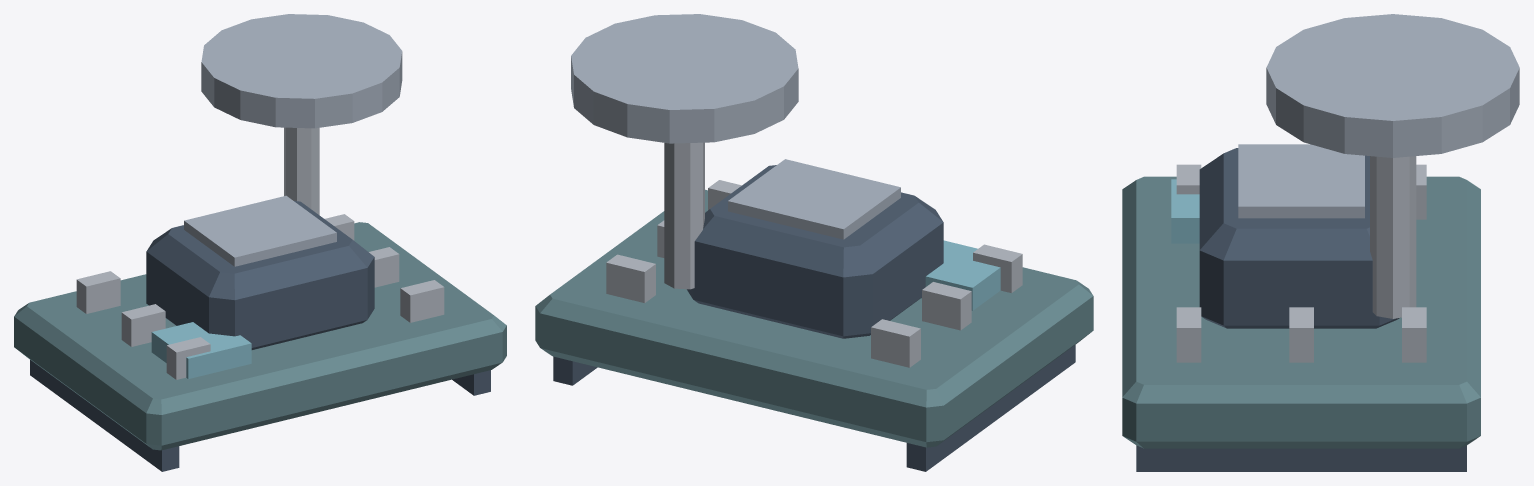
The model's file is chip-nav.glb.
The picture shows the model from 3 angles, left to right: view 1: azimuth 30°, elevation 25°; view 2: azimuth 150°, elevation 25°; view 3: azimuth 270°, elevation 25°; orthographic projection. The views are drawn at different scales.
Visible parts, largest first — view 1: 000_flight_control_board, 012_gps_antenna, 003_processor, 004_processor_stamp, 013_gps_radio, 011_gps_mast, 001_pcb_mounting, 005_connector, 010_connector, 006_connector, 007_connector, 009_connector (+1 smaller); view 2: 000_flight_control_board, 003_processor, 012_gps_antenna, 004_processor_stamp, 011_gps_mast, 001_pcb_mounting, 013_gps_radio, 005_connector, 006_connector, 008_connector, 007_connector, 002_pcb_mounting; view 3: 000_flight_control_board, 012_gps_antenna, 003_processor, 004_processor_stamp, 002_pcb_mounting, 011_gps_mast, 013_gps_radio, 010_connector, 008_connector, 009_connector, 007_connector, 005_connector.
Boxes of the visible parts, box(x1,y1,x2,y2) form: 000_flight_control_board: box(14, 222, 506, 450); 012_gps_antenna: box(201, 14, 402, 128); 003_processor: box(146, 201, 374, 349); 004_processor_stamp: box(184, 195, 336, 266); 013_gps_radio: box(151, 322, 251, 378); 011_gps_mast: box(284, 127, 319, 214); 001_pcb_mounting: box(30, 360, 179, 471); 005_connector: box(76, 271, 120, 313); 010_connector: box(400, 280, 444, 322); 006_connector: box(121, 304, 165, 346); 007_connector: box(166, 337, 210, 379); 009_connector: box(369, 247, 399, 287); 000_flight_control_board: box(535, 189, 1093, 447); 003_processor: box(687, 165, 943, 338); 012_gps_antenna: box(571, 14, 798, 143); 004_processor_stamp: box(728, 159, 900, 239); 011_gps_mast: box(664, 142, 704, 289); 001_pcb_mounting: box(906, 345, 1075, 471); 013_gps_radio: box(921, 240, 1000, 310); 005_connector: box(871, 319, 920, 367); 006_connector: box(922, 282, 971, 330); 008_connector: box(606, 254, 655, 303); 007_connector: box(973, 244, 1022, 292); 002_pcb_mounting: box(553, 356, 597, 385); 000_flight_control_board: box(1122, 176, 1480, 448); 012_gps_antenna: box(1266, 14, 1519, 157); 003_processor: box(1199, 148, 1399, 328); 004_processor_stamp: box(1238, 144, 1364, 218); 002_pcb_mounting: box(1136, 445, 1466, 471); 011_gps_mast: box(1370, 156, 1416, 318); 013_gps_radio: box(1171, 179, 1199, 243); 010_connector: box(1176, 307, 1201, 362); 008_connector: box(1402, 307, 1426, 362); 009_connector: box(1289, 307, 1313, 362); 007_connector: box(1176, 164, 1201, 194); 005_connector: box(1416, 164, 1426, 219).
Bounding box in the file's own units: 0.74 × 0.5515 × 0.565.
